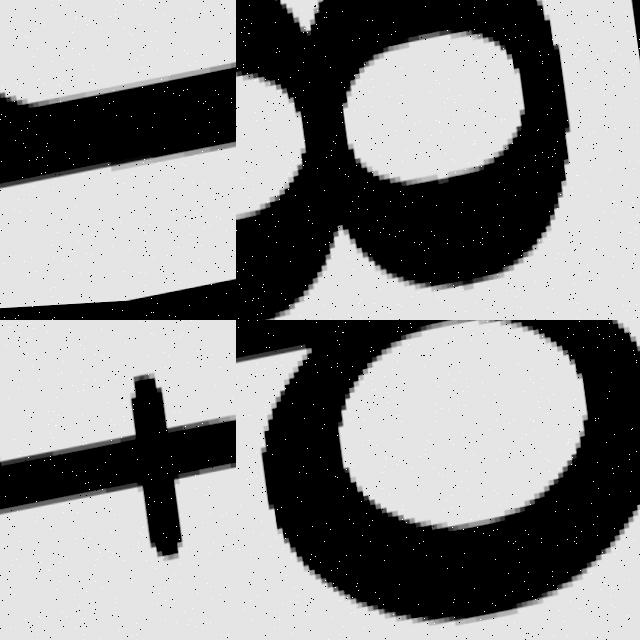8: (236, 0, 601, 320)
F: (0, 377, 236, 563)
P: (236, 320, 640, 629)
U: (0, 0, 236, 284)
